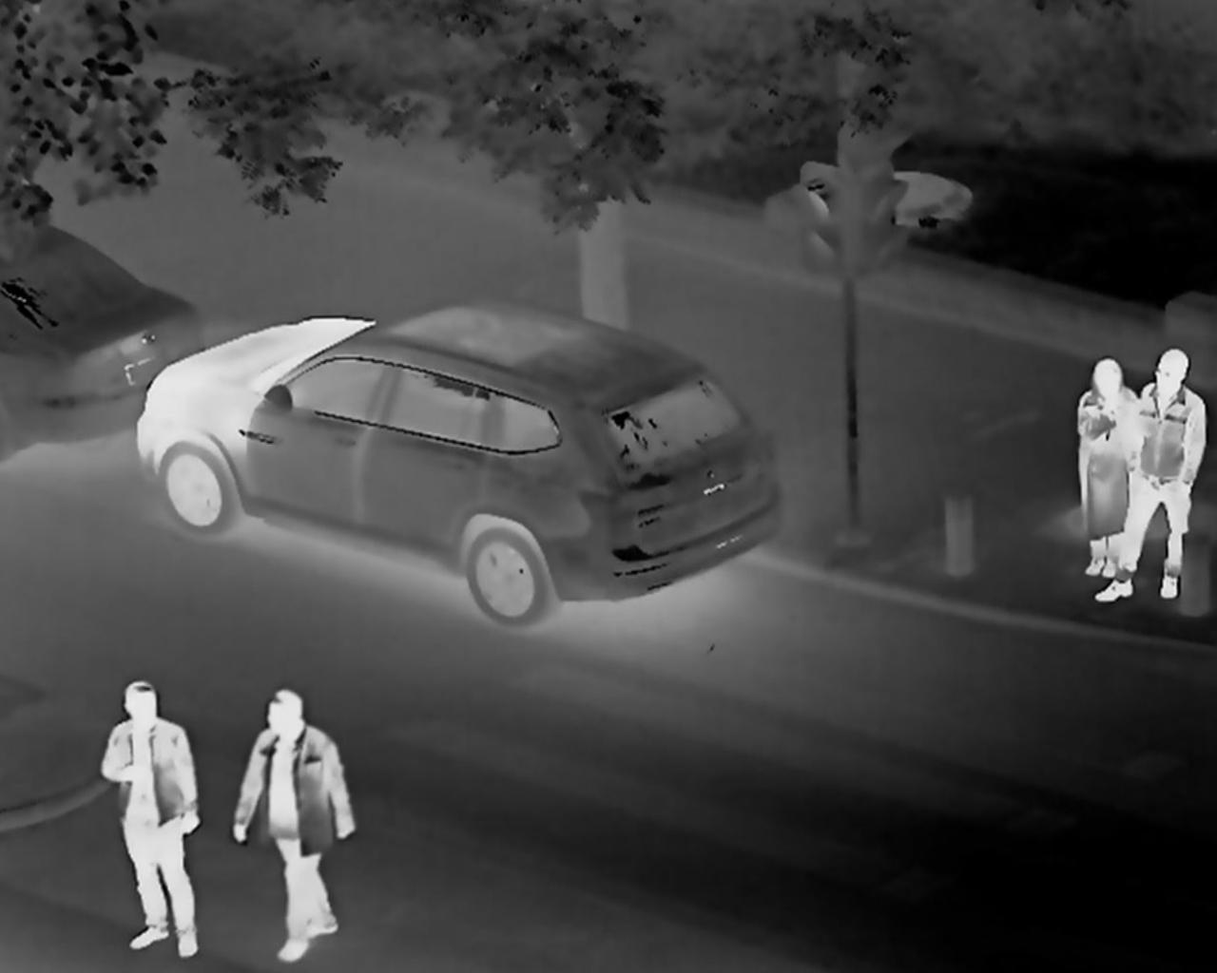person: (103, 665, 218, 963), (233, 685, 358, 950), (1126, 346, 1199, 646), (1068, 339, 1112, 550)
